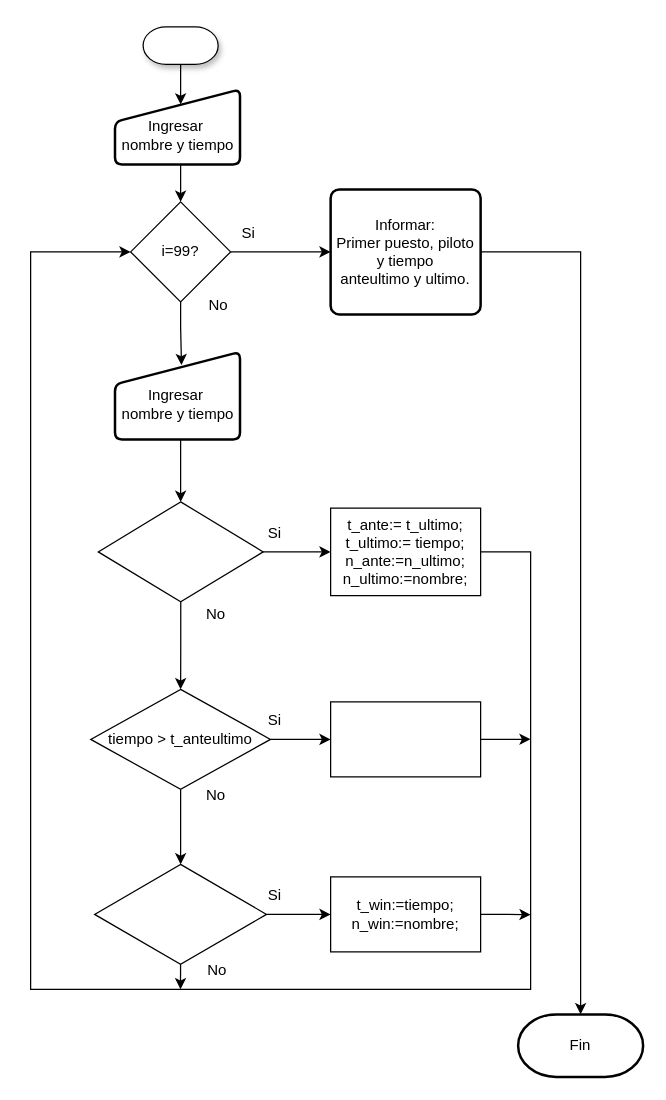
The diagram is 666 pixels wide and 1100 high, and some of its shapes have lost their labels. Each missing label, with the centre of its shape:
"Start" goes at point 181,47.
"t_ante:=tiempo; n_ante:=nombre;" goes at point 405,739.
"tiempo < Ganador" goes at point 179,913.
"tiempo > t_ultimo" goes at point 180,551.
